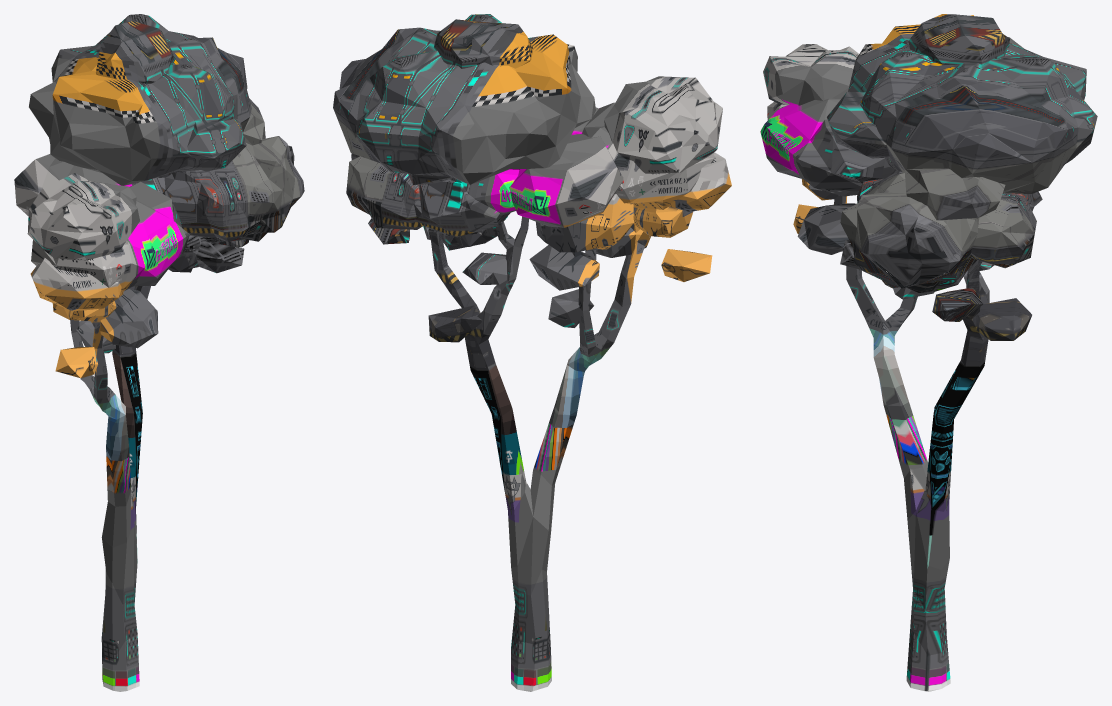
File: SM_Env_Hologram_Tree_01.fbx
3 views of the same model, side by side, from view 1: azimuth 30°, elevation 25°; view 2: azimuth 150°, elevation 25°; view 3: azimuth 270°, elevation 25° (orthographic). The views are drawn at different scales.
Visible parts, largest first — view 1: SM_Env_Hologram_Tree_01; view 2: SM_Env_Hologram_Tree_01; view 3: SM_Env_Hologram_Tree_01.
Boxes of the visible parts, x1=… form: SM_Env_Hologram_Tree_01: x1=14, y1=14, x2=304, y2=691; SM_Env_Hologram_Tree_01: x1=333, y1=14, x2=731, y2=691; SM_Env_Hologram_Tree_01: x1=760, y1=14, x2=1097, y2=691.
Bounding box in the file's own units: 268 × 537 × 239.
